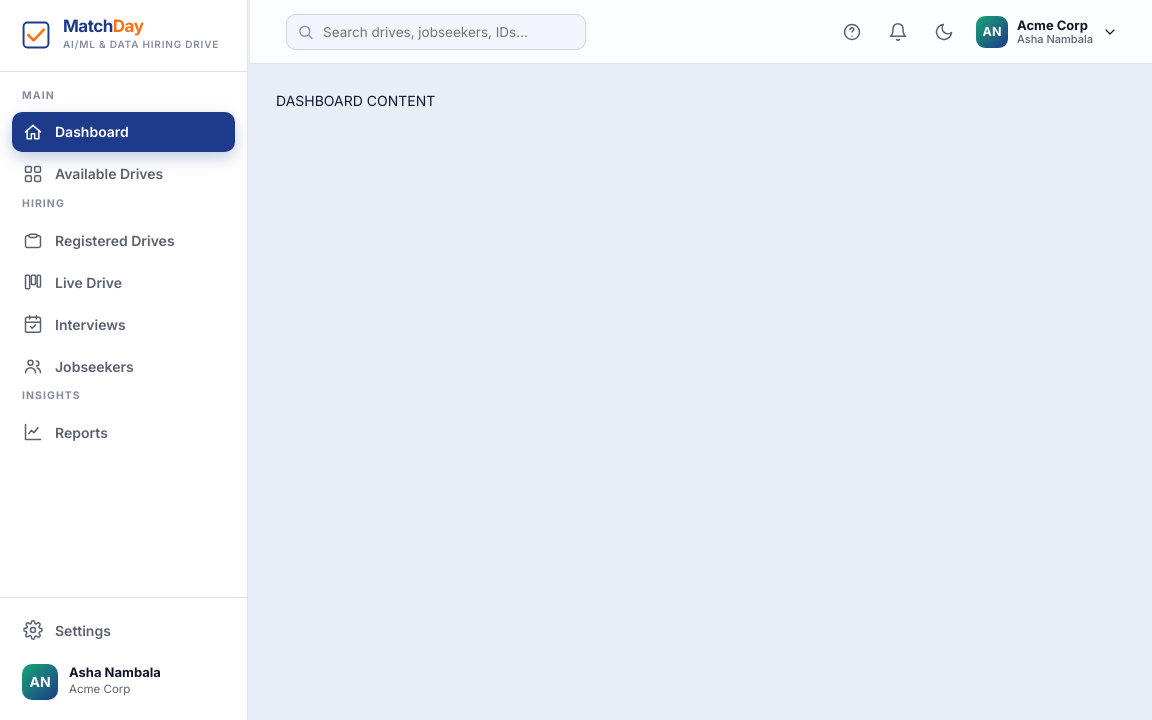
Scenario: EmployerShell › navigates to /employer/drives when the Jobseekers nav item is clicked (candidates are viewed per-drive)
The image size is (1152, 720).
Click the button "Jobseekers" at [124, 366], box [12,346,235,386]
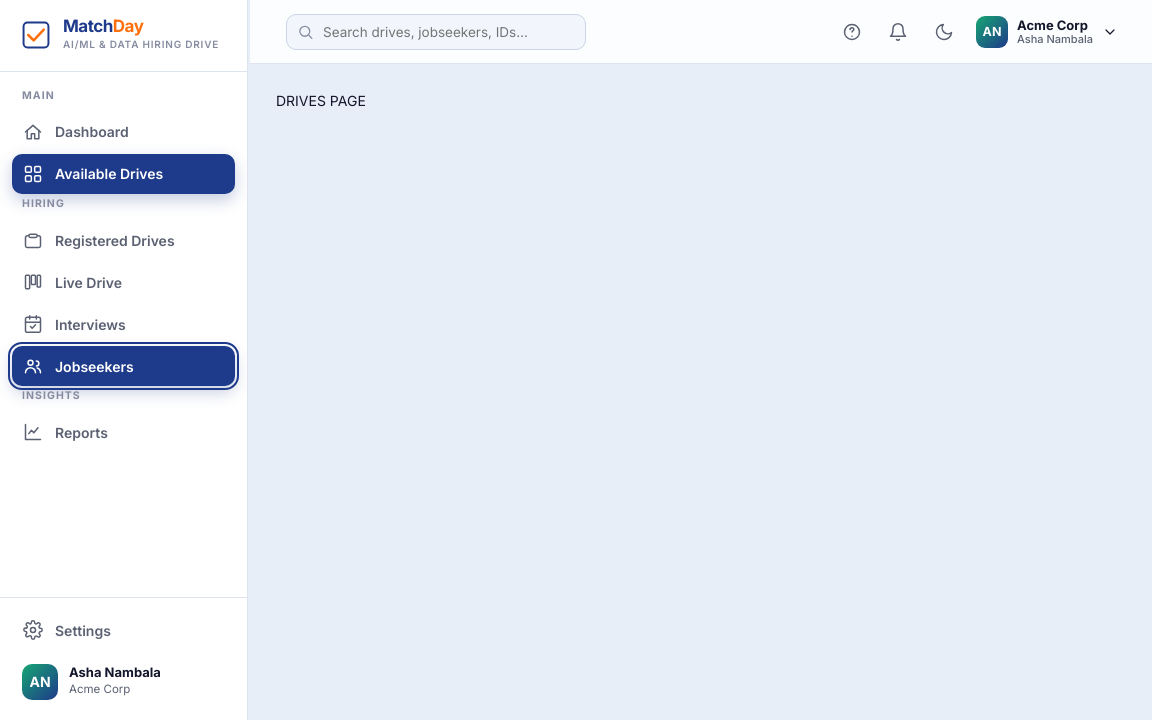
Expected: the text "DRIVES PAGE" is shown, [276,92,366,109]
